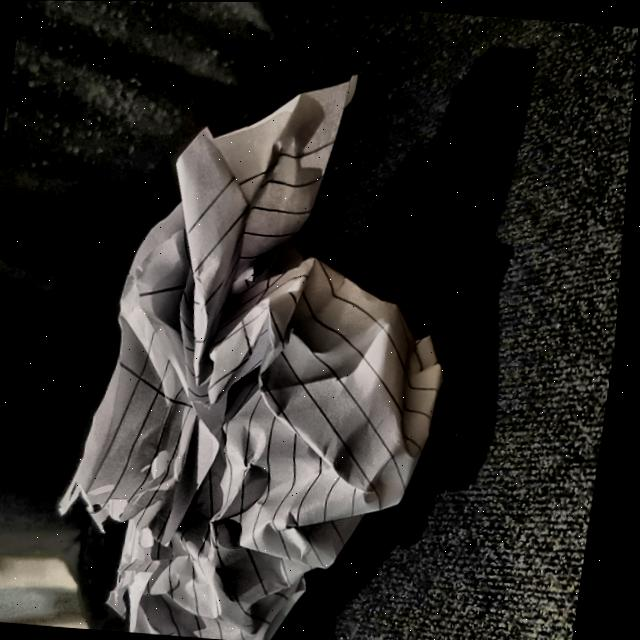paper: (63, 74, 493, 640)
